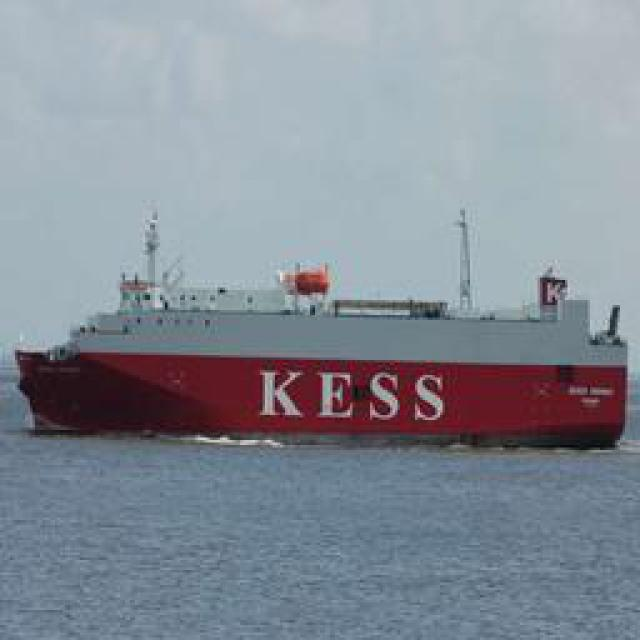Ship: (22, 191, 632, 446)
